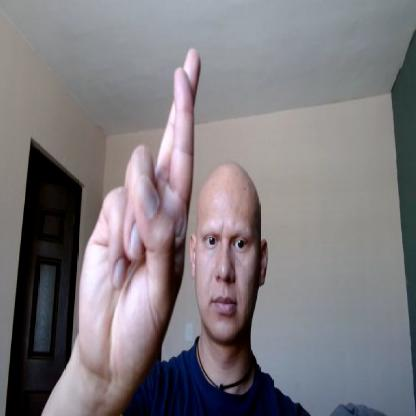R: (77, 48, 204, 378)
